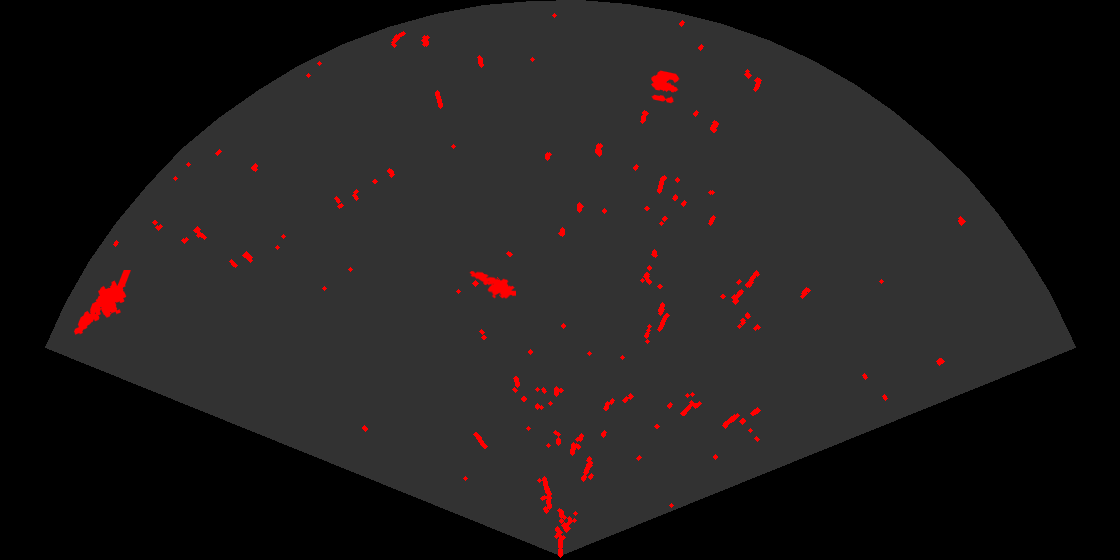ball: (650, 69, 681, 105)
frogman: (72, 270, 132, 336), (468, 269, 516, 300)
